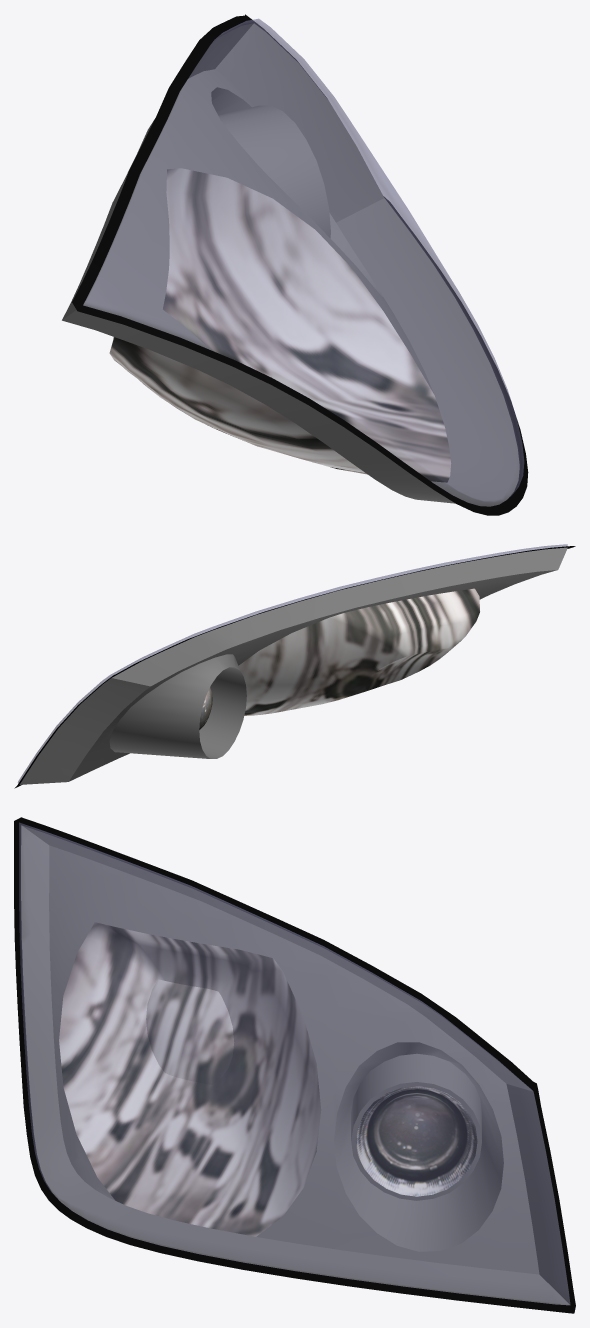
3 views of the same model, one above another, from view 1: azimuth 30°, elevation 25°; view 2: azimuth 150°, elevation 25°; view 3: azimuth 270°, elevation 25° (orthographic). The views are drawn at different scales.
Visible parts, largest first — view 1: P158_061B_R_P158_061B_R_5_DTaSI, P158_061B_R_P158_061B_R_3_DaS, P158_061B_R_P158_061B_R_2_N, P158_061B_R_P158_061B_R_6_D; view 2: P158_061B_R_P158_061B_R_3_DaS, P158_061B_R_P158_061B_R_2_N, P158_061B_R_P158_061B_R_5_DTaSI, P158_061B_R_P158_061B_R_6_D; view 3: P158_061B_R_P158_061B_R_5_DTaSI, P158_061B_R_P158_061B_R_3_DaS, P158_061B_R_P158_061B_R_2_N, P158_061B_R_P158_061B_R_6_D, P158_061B_R_1_N_P158_061B_R.
Boxes of the visible parts, left/top/right/bottom form: P158_061B_R_P158_061B_R_5_DTaSI: left=83, top=18, right=524, bottom=506; P158_061B_R_P158_061B_R_3_DaS: left=62, top=23, right=519, bottom=506; P158_061B_R_P158_061B_R_2_N: left=109, top=168, right=450, bottom=482; P158_061B_R_P158_061B_R_6_D: left=72, top=14, right=528, bottom=515; P158_061B_R_P158_061B_R_3_DaS: left=19, top=547, right=567, bottom=784; P158_061B_R_P158_061B_R_2_N: left=238, top=588, right=479, bottom=715; P158_061B_R_P158_061B_R_5_DTaSI: left=18, top=544, right=567, bottom=783; P158_061B_R_P158_061B_R_6_D: left=14, top=546, right=575, bottom=788; P158_061B_R_P158_061B_R_5_DTaSI: left=19, top=822, right=570, bottom=1304; P158_061B_R_P158_061B_R_3_DaS: left=21, top=825, right=570, bottom=1305; P158_061B_R_P158_061B_R_2_N: left=59, top=922, right=321, bottom=1236; P158_061B_R_P158_061B_R_6_D: left=14, top=817, right=575, bottom=1313; P158_061B_R_1_N_P158_061B_R: left=356, top=1086, right=477, bottom=1196.
Bounding box in the file's own units: 42.61 × 21 × 41.79.
